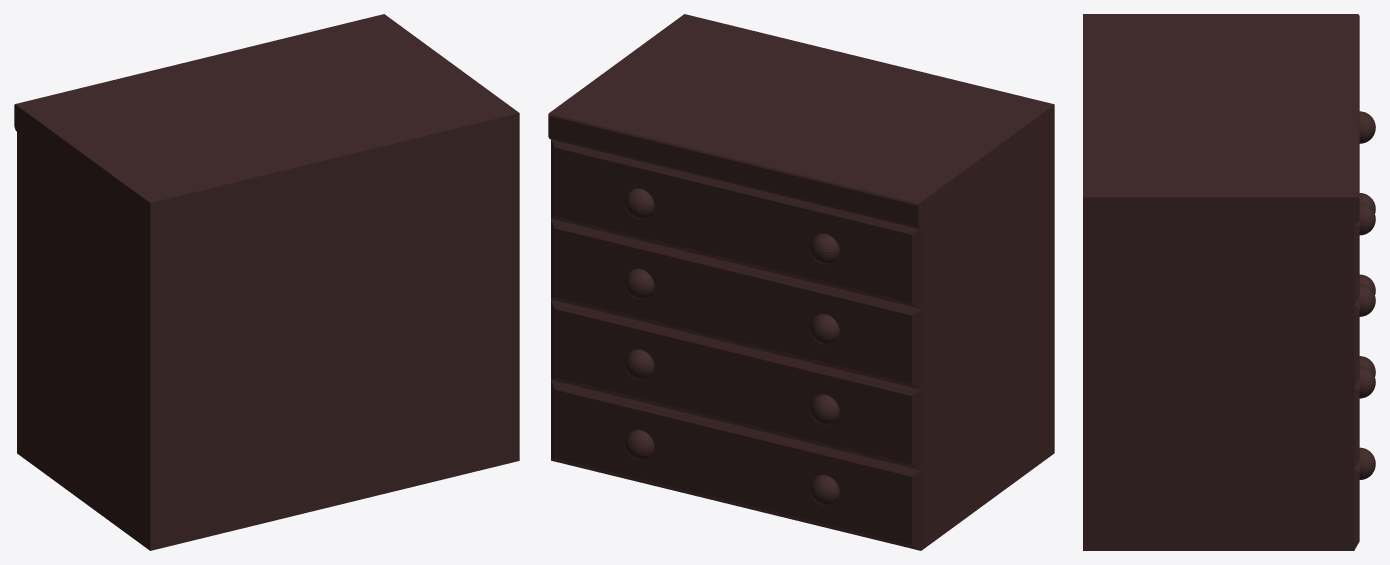
File: Drawers.fbx
3 renders of one model, left to right at view 1: azimuth 30°, elevation 25°; view 2: azimuth 150°, elevation 25°; view 3: azimuth 270°, elevation 25°, orthographic.
Parts seen in each view (by area): view 1: Drawers; view 2: Drawers, Handle.002, Handle.007, Handle.003, Handle.001, Handle.008, Handle.006, Handle.004, Handle.005; view 3: Drawers, Handle.001, Handle.002, Handle.003, Handle.006, Handle.007.
Boxes of the visible parts, x1=… form: Drawers: x1=14, y1=14, x2=519, y2=550; Drawers: x1=548, y1=14, x2=1054, y2=550; Handle.002: x1=810, y1=233, x2=839, y2=264; Handle.007: x1=624, y1=429, x2=654, y2=460; Handle.003: x1=624, y1=268, x2=654, y2=299; Handle.001: x1=624, y1=188, x2=654, y2=219; Handle.008: x1=810, y1=474, x2=839, y2=505; Handle.006: x1=624, y1=349, x2=654, y2=379; Handle.004: x1=810, y1=314, x2=839, y2=344; Handle.005: x1=810, y1=394, x2=839, y2=425; Drawers: x1=1083, y1=14, x2=1359, y2=550; Handle.001: x1=1359, y1=203, x2=1375, y2=235; Handle.002: x1=1359, y1=111, x2=1375, y2=143; Handle.003: x1=1359, y1=284, x2=1375, y2=316; Handle.006: x1=1359, y1=366, x2=1375, y2=398; Handle.007: x1=1359, y1=447, x2=1375, y2=479.
Bounding box in the file's own units: 200 × 180 × 135.
